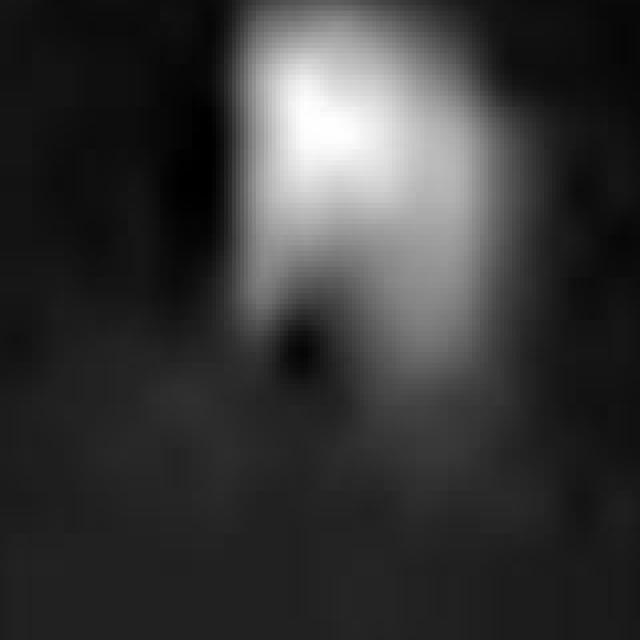person: (225, 1, 537, 460)
